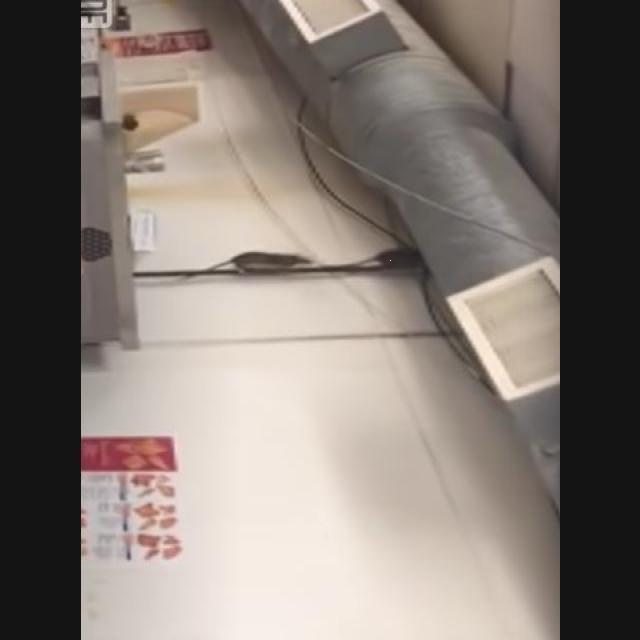rat: (202, 242, 316, 286), (352, 240, 418, 277)
